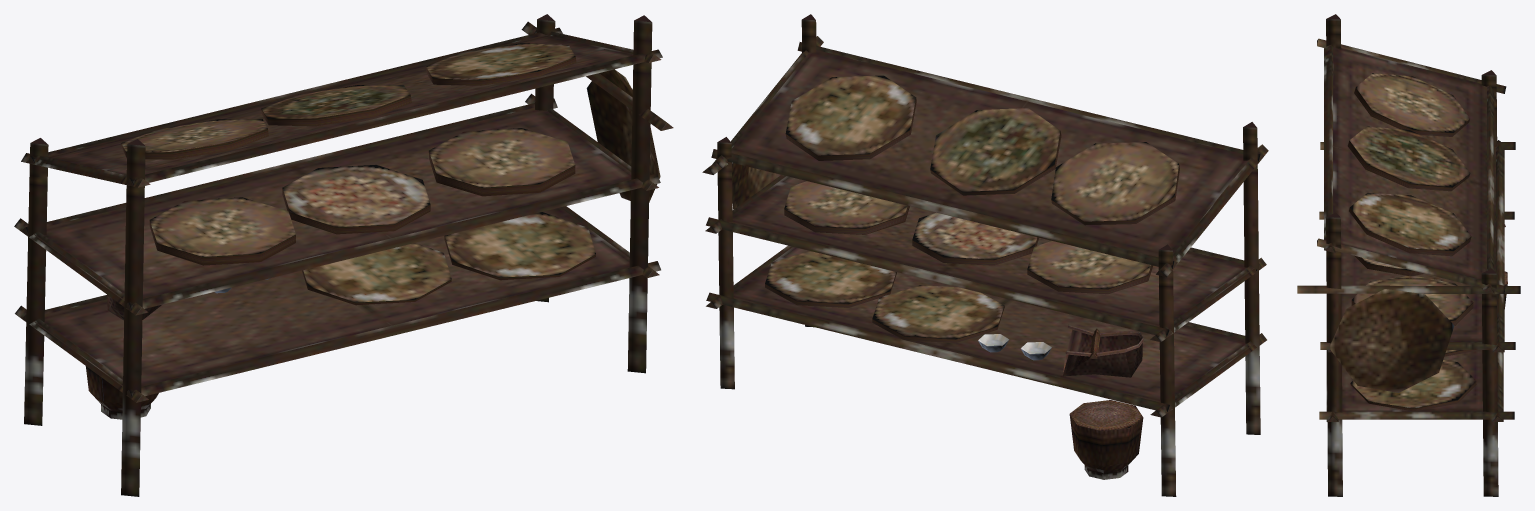
File: oMscTanwei01D.FBX
3 renders of one model, left to right at view 1: azimuth 30°, elevation 25°; view 2: azimuth 150°, elevation 25°; view 3: azimuth 270°, elevation 25°, orthographic. The views are drawn at different scales.
Visible parts, largest first — view 1: oMscTanwei01D; view 2: oMscTanwei01D; view 3: oMscTanwei01D.
Part boxes in pixels (x1,y1,x2,y2): oMscTanwei01D: [14, 14, 673, 496]; oMscTanwei01D: [702, 14, 1268, 496]; oMscTanwei01D: [1297, 14, 1520, 496].
Bounding box in the file's own units: 33.11 × 20.28 × 14.6.
1 material, 1 textured.
